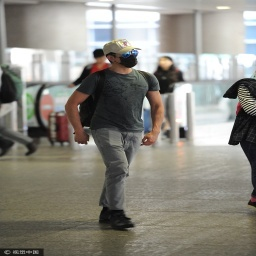correctlyWear: (106, 48, 138, 68)
noWear: (159, 58, 173, 69)
